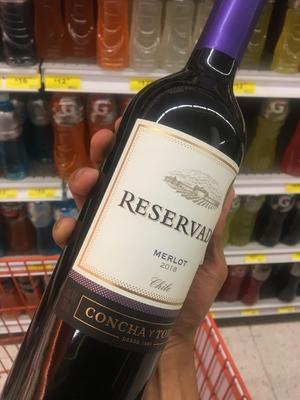reservado merlot: (56, 11, 232, 400)
